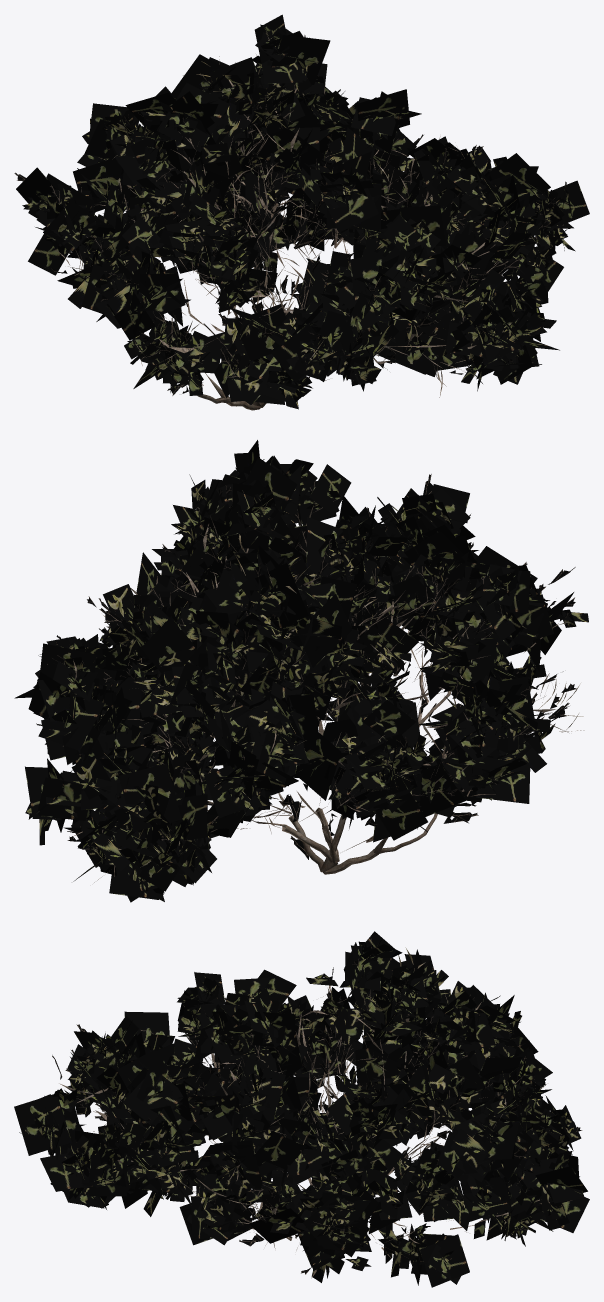
Rendered from tree_searsia.glb.
The picture shows the model from 3 angles, top to bottom: view 1: azimuth 30°, elevation 25°; view 2: azimuth 150°, elevation 25°; view 3: azimuth 270°, elevation 25°; orthographic projection. The views are drawn at different scales.
Visible parts, largest first — view 1: searsia_burchellii; view 2: searsia_burchellii; view 3: searsia_burchellii.
Boxes of the visible parts, x1,y1,x2,y2 form: searsia_burchellii: [14, 14, 589, 410]; searsia_burchellii: [14, 440, 588, 902]; searsia_burchellii: [14, 931, 589, 1287].
Bounding box in the file's own units: 4.15 × 3.27 × 5.22.
3 materials, 3 textured.
